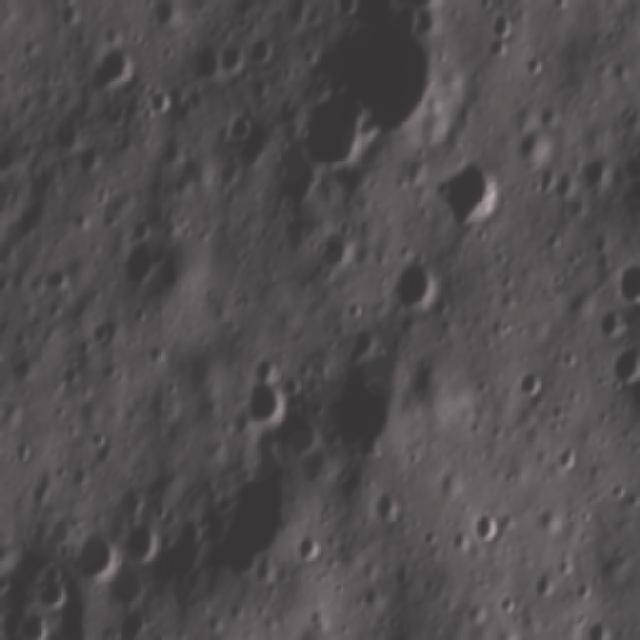crater: (307, 19, 439, 130), (200, 449, 298, 583), (309, 341, 414, 454), (296, 93, 366, 170), (433, 155, 501, 227), (381, 251, 447, 324), (232, 359, 298, 424), (74, 39, 140, 95), (226, 106, 272, 163), (462, 503, 506, 562), (124, 511, 167, 560), (78, 532, 120, 582), (603, 343, 640, 397), (242, 22, 284, 68), (607, 259, 640, 311), (213, 43, 250, 82), (484, 4, 522, 39), (152, 0, 192, 26)
